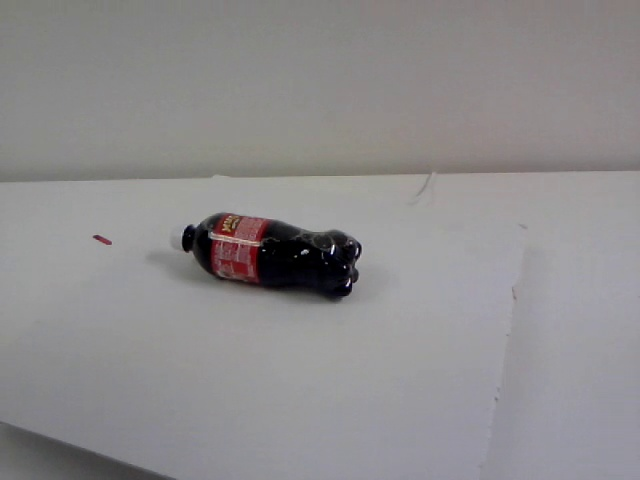botolplastik: (171, 213, 361, 301)
